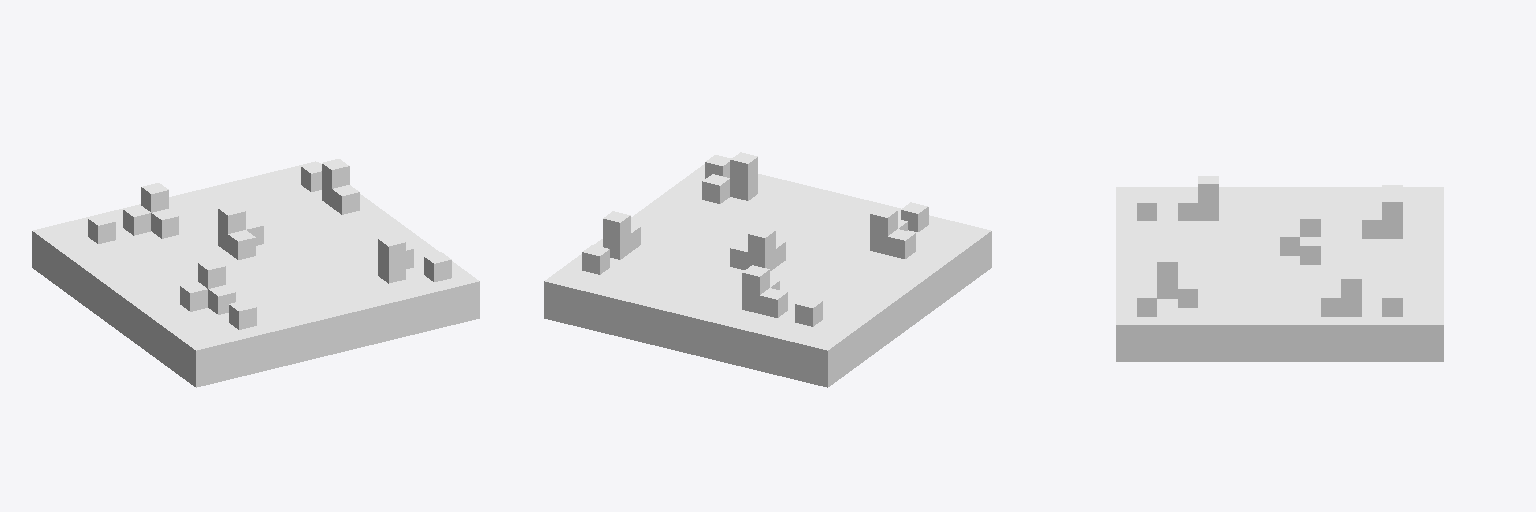
The model's file is Field_2.obj.
3 views of the same model, side by side, from view 1: azimuth 30°, elevation 25°; view 2: azimuth 150°, elevation 25°; view 3: azimuth 270°, elevation 25° (orthographic).
Parts seen in each view (by area): view 1: object 1; view 2: object 1; view 3: object 1.
Part boxes in pixels (x1,y1,x2,y2): object 1: (32, 159, 479, 387); object 1: (544, 152, 991, 387); object 1: (1116, 176, 1443, 361).
Bounding box in the file's own units: 1.6 × 0.4 × 1.6.